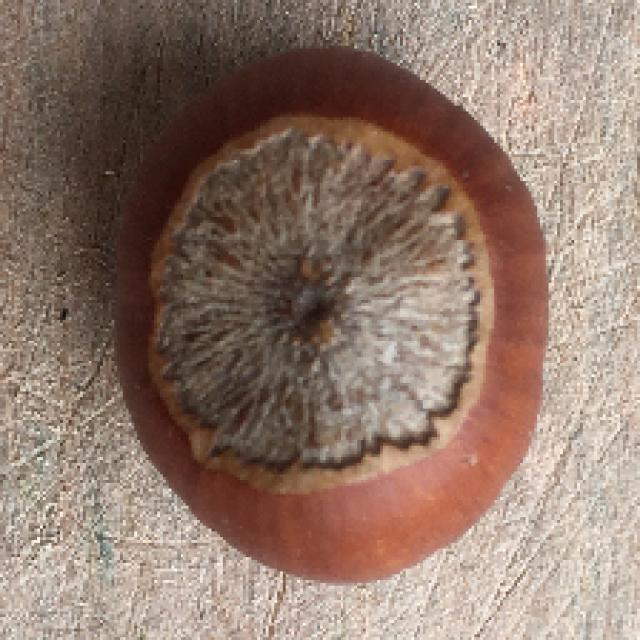qualityHazelnut: (117, 51, 556, 587)
